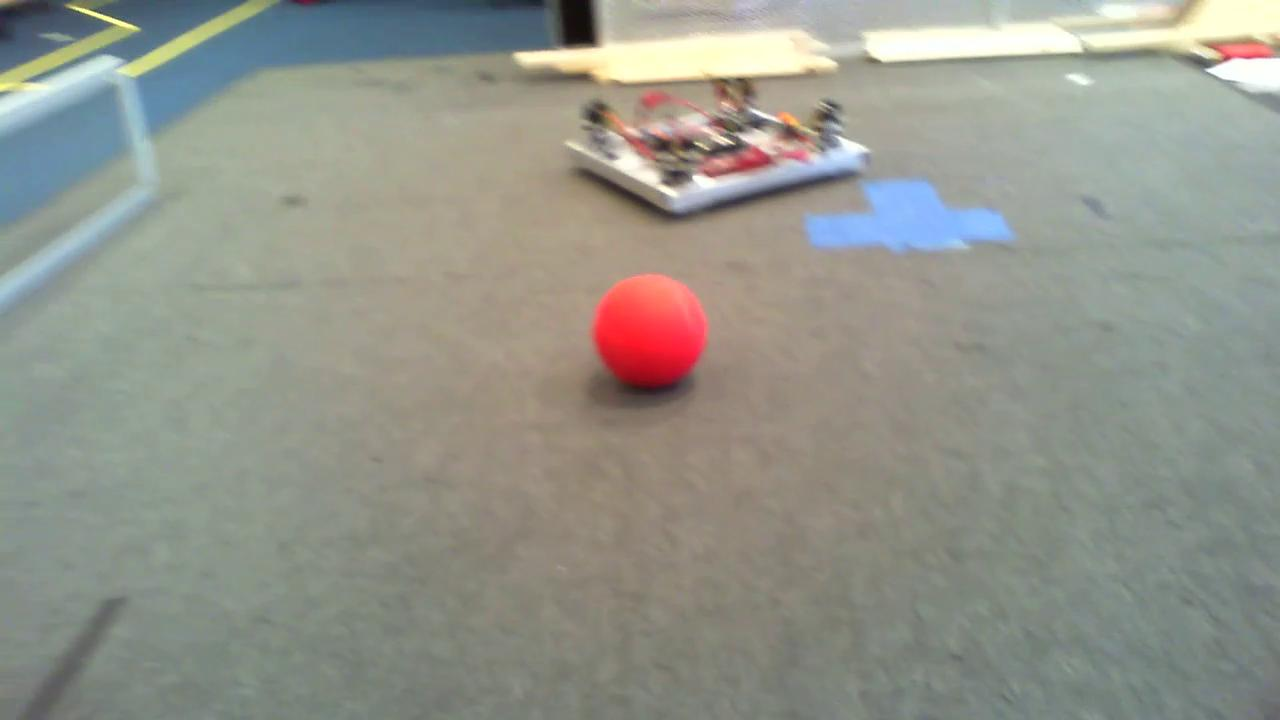Red_Ball: (575, 267, 723, 392)
